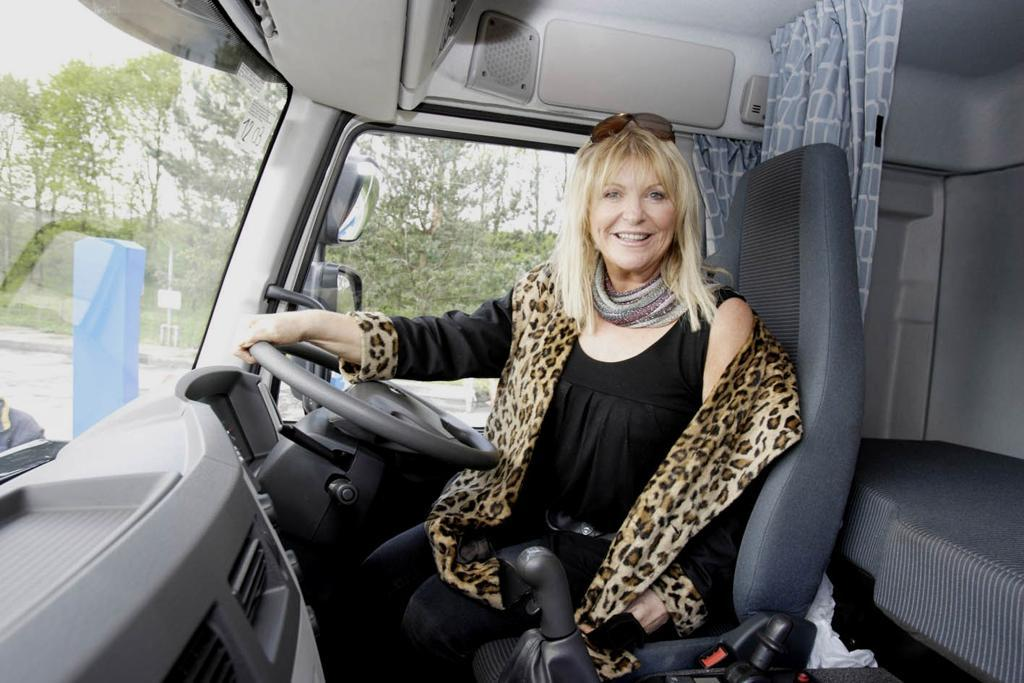face: (595, 145, 681, 267)
